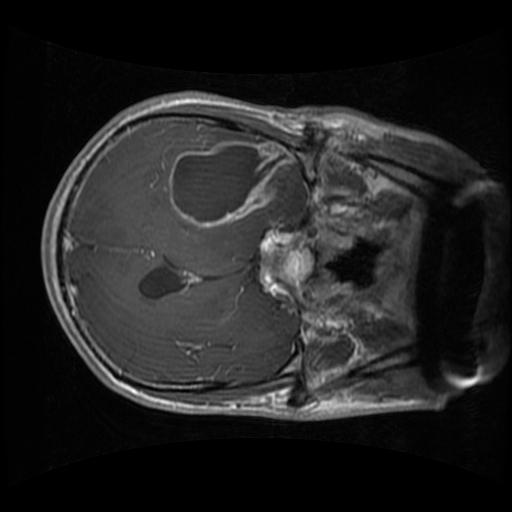glioma: (166, 137, 296, 230)
